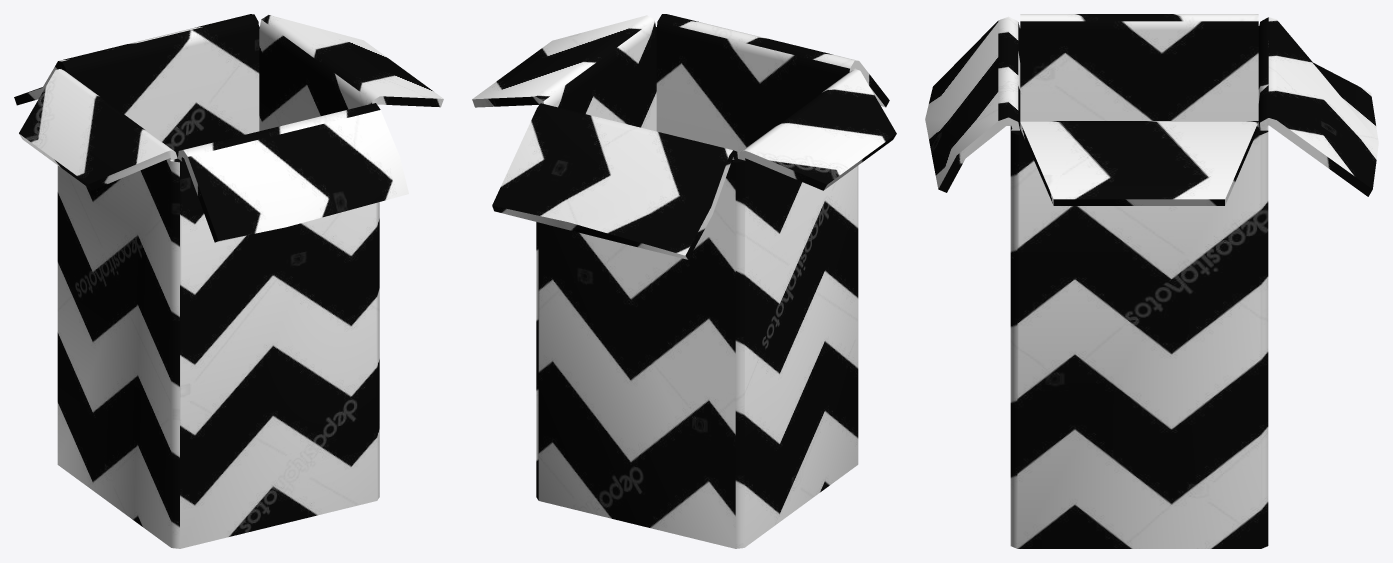
The model's file is CardboardOpen.fbx.
The picture shows the model from 3 angles, left to right: view 1: azimuth 30°, elevation 25°; view 2: azimuth 150°, elevation 25°; view 3: azimuth 270°, elevation 25°; orthographic projection. The views are drawn at different scales.
Visible parts, largest first — view 1: Carton; view 2: Carton; view 3: Carton.
Boxes of the visible parts, bbox=[...] form: Carton: bbox=[14, 14, 443, 548]; Carton: bbox=[472, 14, 896, 548]; Carton: bbox=[925, 14, 1378, 548].
Bounding box in the file's own units: 6662 × 7262 × 6977.
